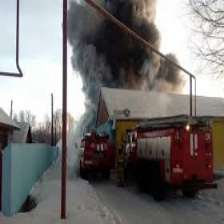smoke: (71, 1, 173, 94)
